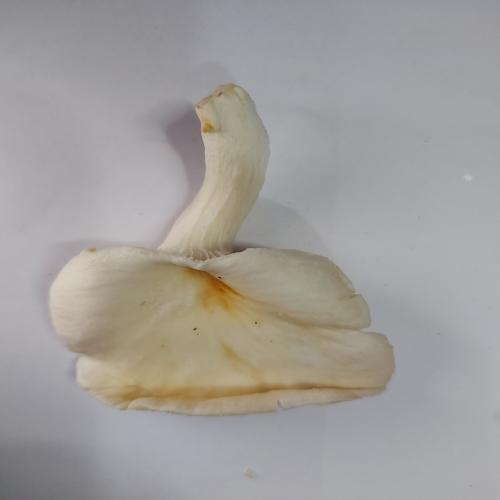Oyster Mushroom: (47, 82, 396, 416)
